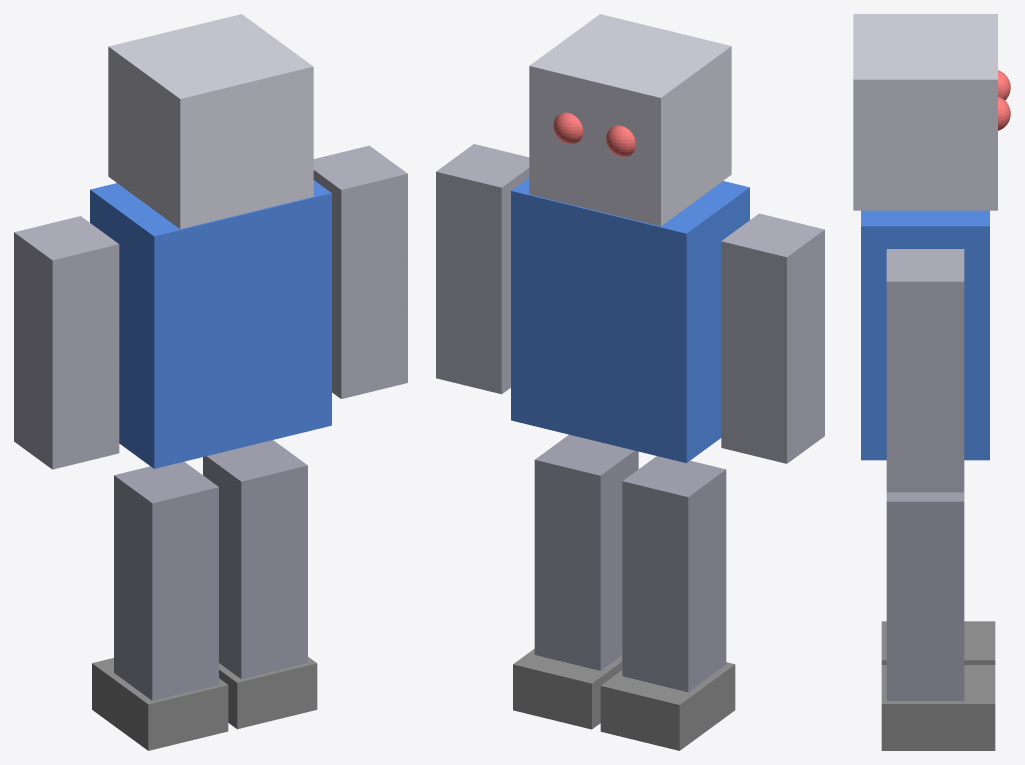
Rendered from 20260311_193110_blue_robot_blue.glb.
The picture shows the model from 3 angles, left to right: view 1: azimuth 30°, elevation 25°; view 2: azimuth 150°, elevation 25°; view 3: azimuth 270°, elevation 25°; orthographic projection. The views are drawn at different scales.
Parts seen in each view (by area): view 1: Cube, Cube.001, Cube.002, Cube.004, Cube.005, Cube.003, Cube.006, Cube.007; view 2: Cube, Cube.001, Cube.002, Cube.004, Cube.005, Cube.003, Cube.006, Cube.007, Sphere.001, Sphere; view 3: Cube.001, Cube.003, Cube.005, Cube, Cube.007, Cube.006, Sphere.001, Sphere.
Boxes of the visible parts, x1,y1,x2,y2 form: Cube: (90,180,331,468); Cube.001: (108,14,313,229); Cube.002: (14,216,119,469); Cube.004: (114,461,218,700); Cube.005: (203,440,307,679); Cube.003: (313,145,407,398); Cube.006: (92,658,228,750); Cube.007: (219,657,317,729); Cube: (511,178,749,463); Cube.001: (529,14,731,226); Cube.002: (721,213,824,463); Cube.004: (622,456,726,692); Cube.005: (534,434,638,670); Cube.003: (436,144,529,394); Cube.006: (600,662,735,750); Cube.007: (513,649,622,729); Sphere.001: (553,112,583,144); Sphere: (606,125,635,156); Cube.001: (853,14,997,210); Cube.003: (886,249,964,492); Cube.005: (886,492,964,700); Cube: (861,210,989,460); Cube.007: (881,665,995,750); Cube.006: (881,621,995,664); Sphere.001: (998,96,1010,130); Sphere: (998,70,1010,100).
Size of the model in its own units: 1.6 by 2.83 by 0.61.
